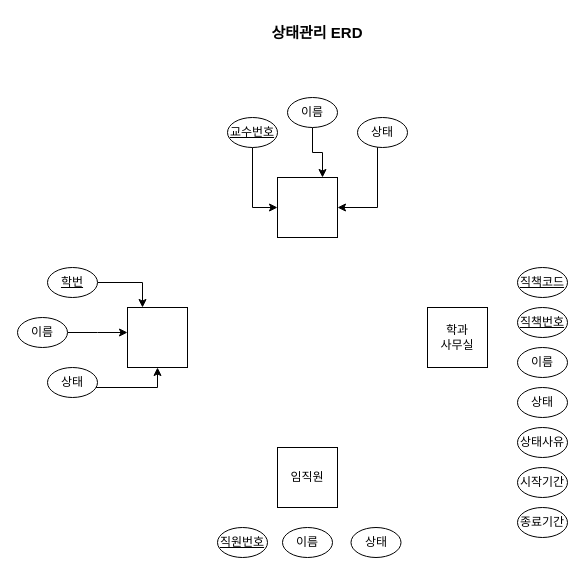
The diagram is 585 pixels wide and 575 high, and some of its shapes have lost their labels. Here are the shapes that lost their labels. From the top down, the centre of each, then its label:
At pixel 307 207: "교수".
At pixel 157 337: "학생".
